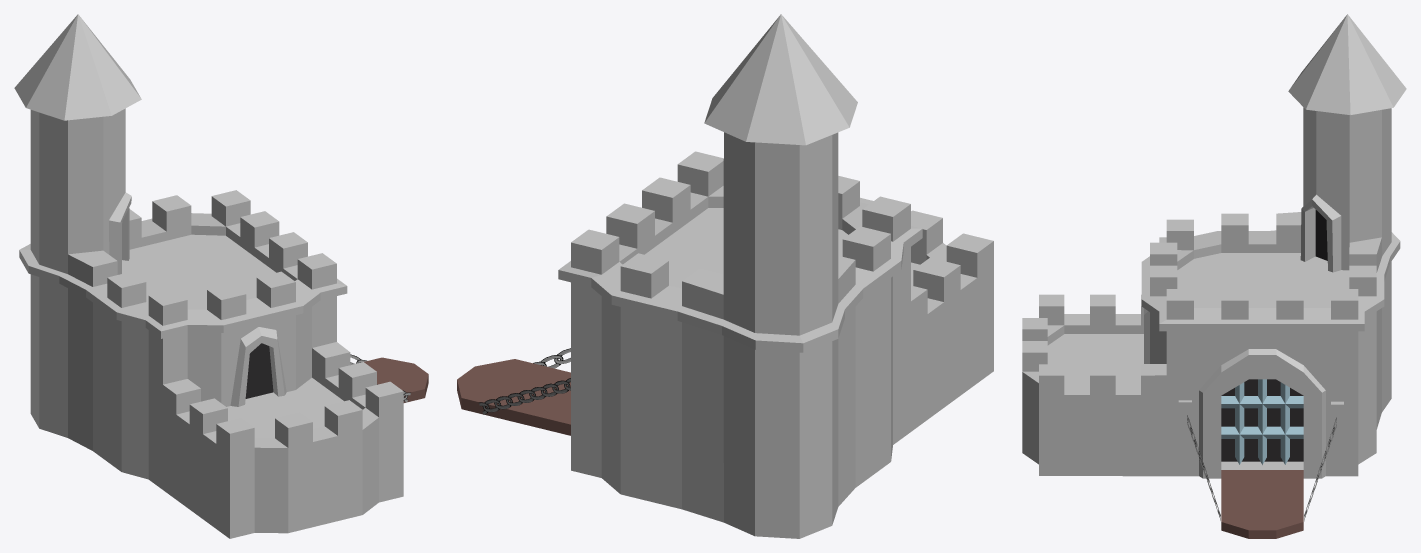
File: MiniCastle (2).fbx
3 views of the same model, side by side, from view 1: azimuth 30°, elevation 25°; view 2: azimuth 150°, elevation 25°; view 3: azimuth 270°, elevation 25° (orthographic). The views are drawn at different scales.
Visible parts, largest first — view 1: Cube; view 2: Cube, Plane.001; view 3: Cube, Plane, Plane.001.
Part boxes in pixels (<box>): Cube: <box>14,14,428,538</box>; Cube: <box>457,14,993,538</box>; Plane.001: <box>479,348,570,414</box>; Cube: <box>1022,14,1406,538</box>; Plane: <box>1221,379,1303,464</box>; Plane.001: <box>1187,415,1336,521</box>.
Bounding box in the file's own units: 1312 × 1441 × 1299.
